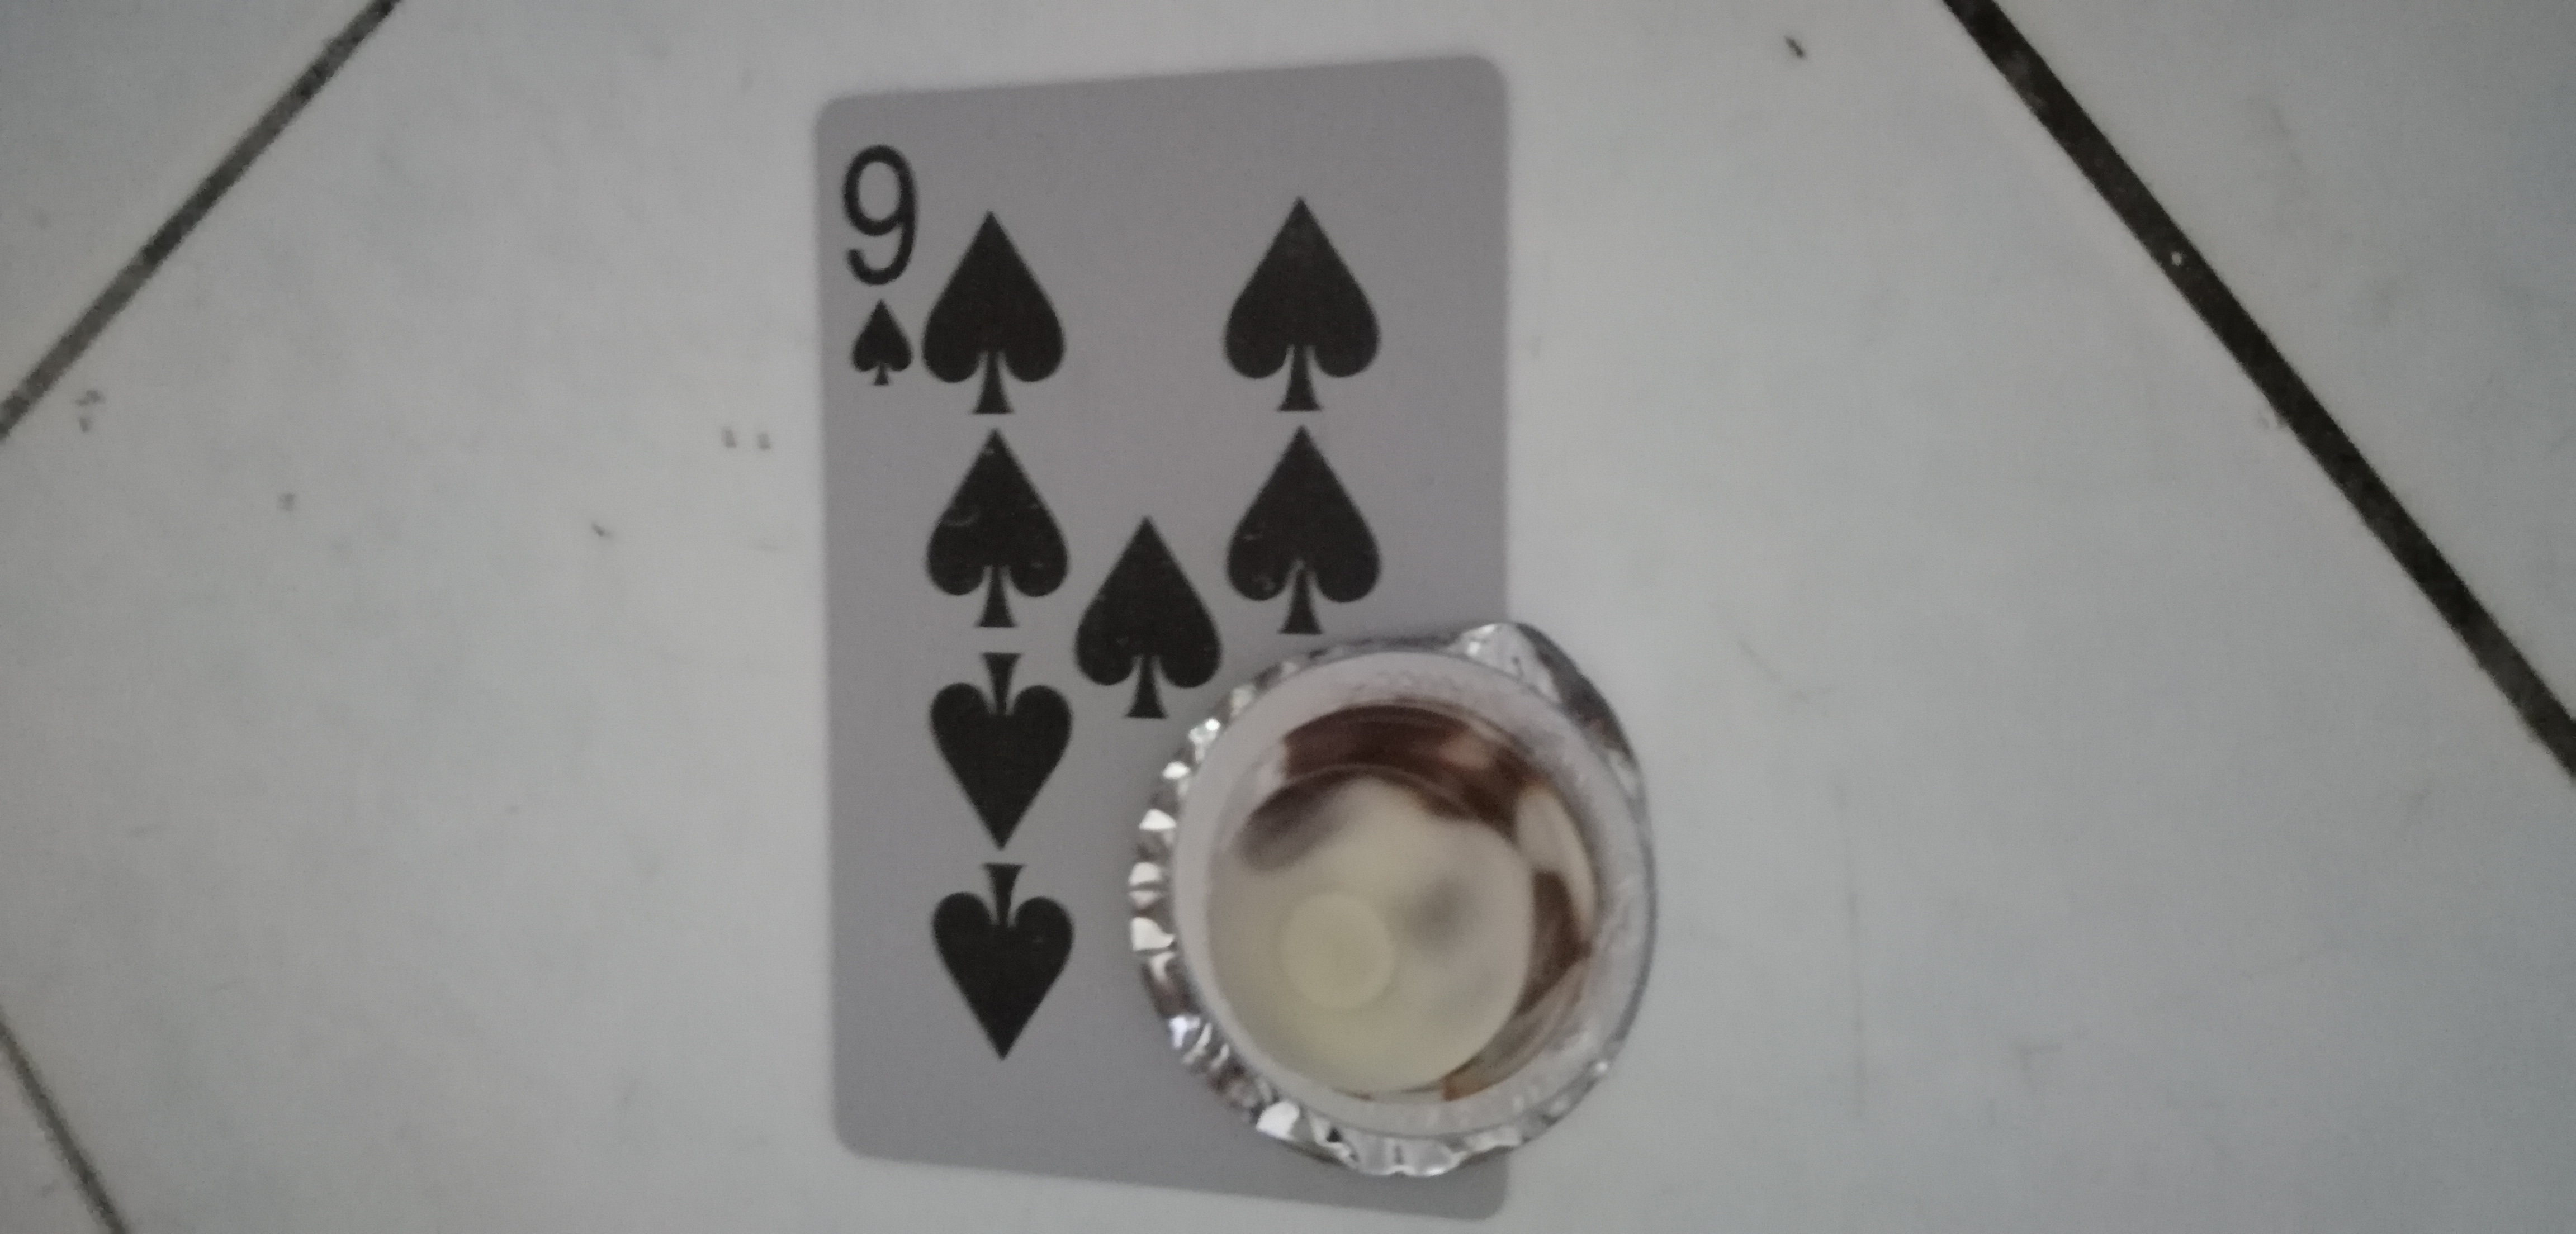nine: (736, 56, 1520, 1224)
